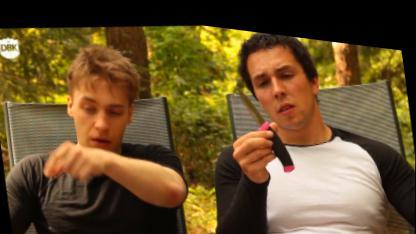knife: (230, 69, 300, 174)
